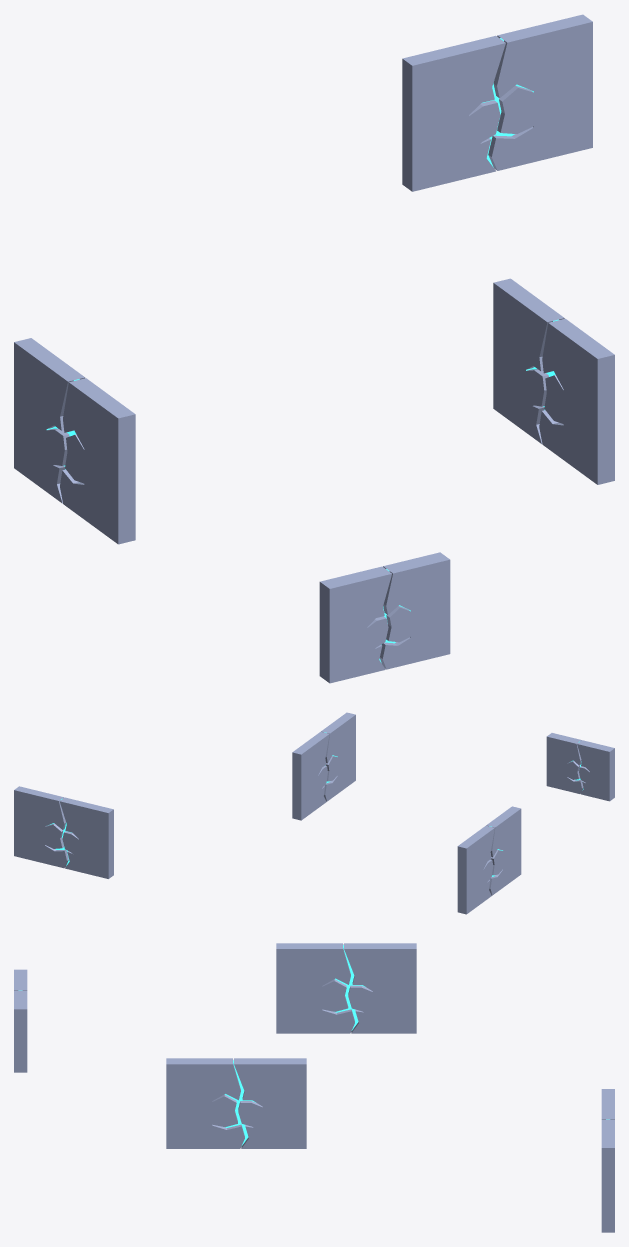
Rendered from Blocking_TourFinale_Present.fbx.
3 renders of one model, top to bottom at view 1: azimuth 30°, elevation 25°; view 2: azimuth 150°, elevation 25°; view 3: azimuth 270°, elevation 25°, orthographic. The views are drawn at different scales.
Parts seen in each view (by area): view 1: MurCassable.006, MurCassable.005, MurCassable.004, MurCassable.003; view 2: MurCassable.006, MurCassable.004, MurCassable.005, MurCassable.003; view 3: MurCassable.004, MurCassable.005, MurCassable.006, MurCassable.003.
Part boxes in pixels (<box>): MurCassable.006: <box>402,14,592,191</box>; MurCassable.005: <box>493,278,614,484</box>; MurCassable.004: <box>14,338,135,544</box>; MurCassable.003: <box>319,552,450,683</box>; MurCassable.006: <box>14,786,113,878</box>; MurCassable.004: <box>457,806,521,914</box>; MurCassable.005: <box>292,712,355,820</box>; MurCassable.003: <box>546,733,614,801</box>; MurCassable.004: <box>276,943,416,1033</box>; MurCassable.005: <box>166,1058,306,1148</box>; MurCassable.006: <box>601,1089,614,1232</box>; MurCassable.003: <box>14,969,27,1072</box>.
Bounding box in the file's own units: 23.8 × 5.42 × 25.73.
